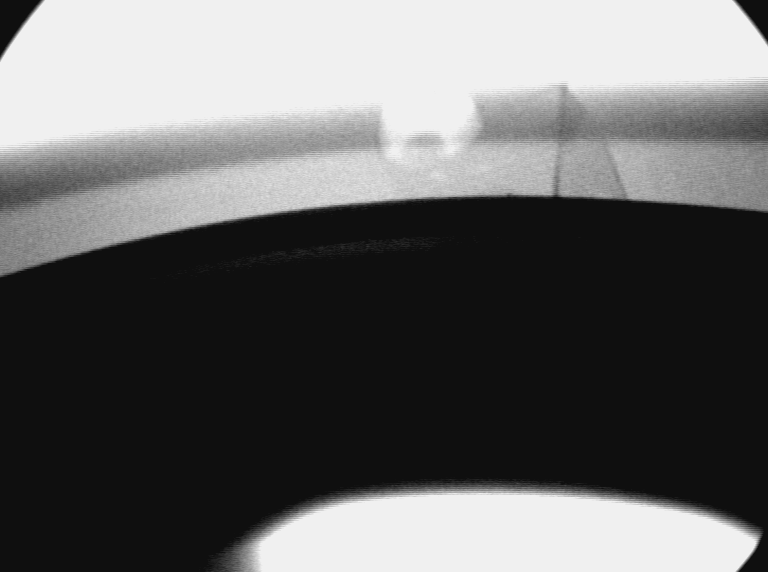defect: (429, 166, 454, 187)
